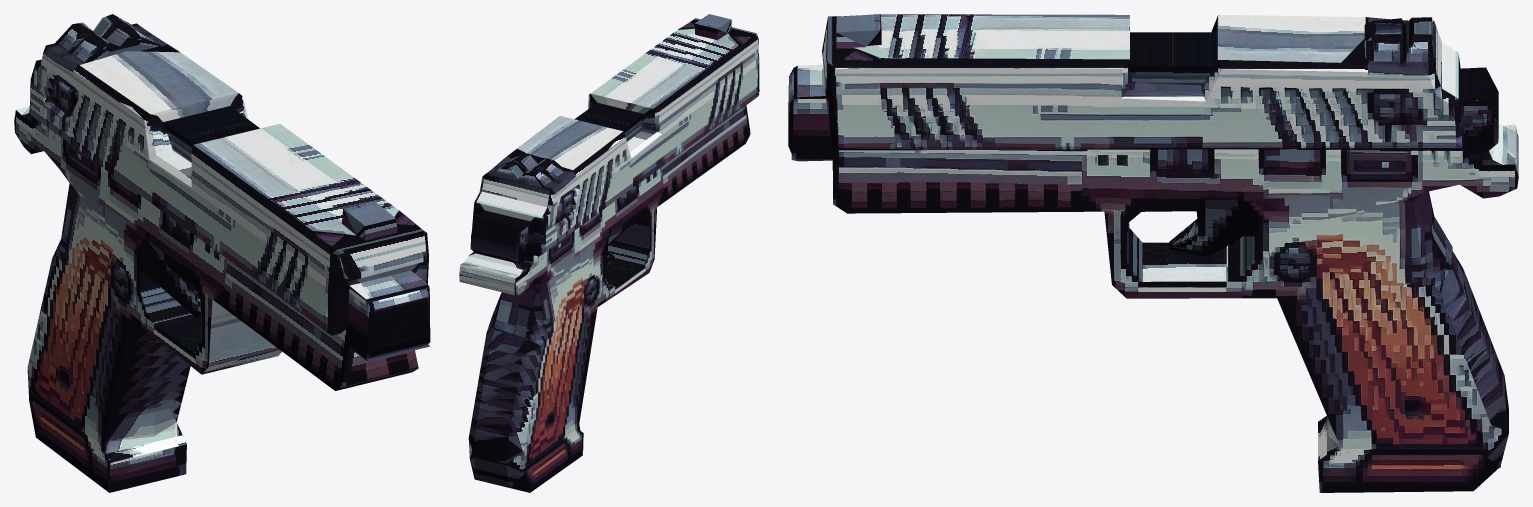
File: pistolbyme.glb
3 views of the same model, side by side, from view 1: azimuth 30°, elevation 25°; view 2: azimuth 150°, elevation 25°; view 3: azimuth 270°, elevation 25° (orthographic). The views are drawn at different scales.
Visible parts, largest first — view 1: OIG1.CFRr2O0v8znfdN; view 2: OIG1.CFRr2O0v8znfdN; view 3: OIG1.CFRr2O0v8znfdN.
Boxes of the visible parts, bbox=[...] form: OIG1.CFRr2O0v8znfdN: bbox=[14, 14, 430, 492]; OIG1.CFRr2O0v8znfdN: bbox=[459, 14, 759, 492]; OIG1.CFRr2O0v8znfdN: bbox=[788, 14, 1518, 492].
Size of the model in its own units: 0.1484 by 0.6033 by 0.8837.
1 material, 1 textured.
